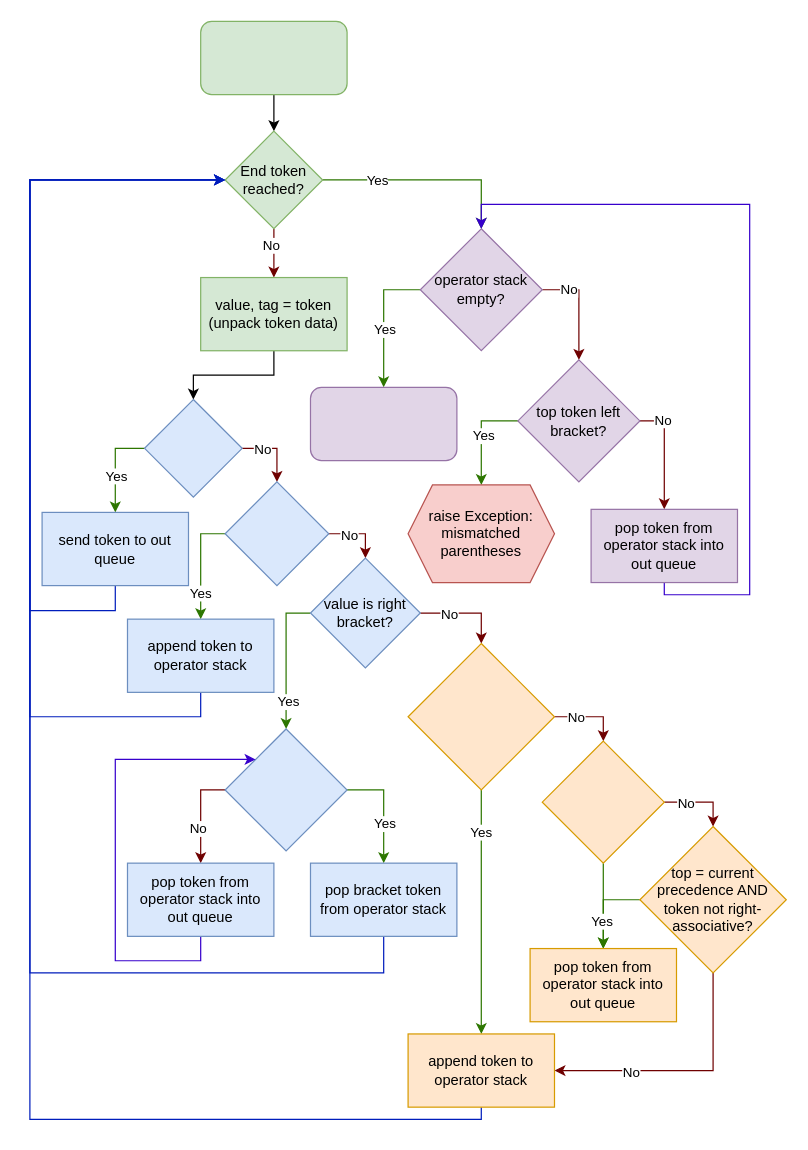
Some shapes in this 808 by 1150 pixel diagram are drawn without their labels. The shapes that lost their labels are listed below. From the top down, each one's box as (x1, y1, x2, y2) in pixels, then its label:
(199, 20, 347, 95): Start function
(309, 386, 457, 461): return out queue
(143, 398, 242, 497): tag is operand?
(224, 481, 329, 586): value is left bracket?
(407, 642, 554, 790): top token on stack is None or left bracket?
(224, 728, 347, 851): last item on operator stack is left bracket?
(541, 740, 664, 863): top < current precedence?
